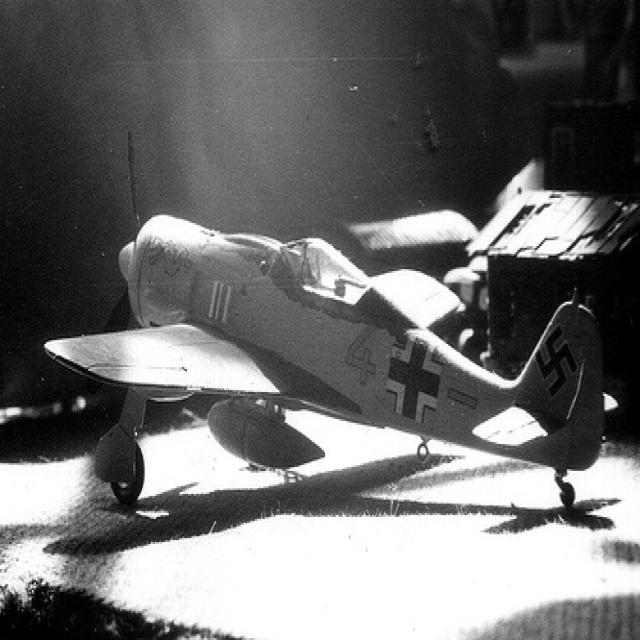aeroplane: (42, 210, 604, 510)
